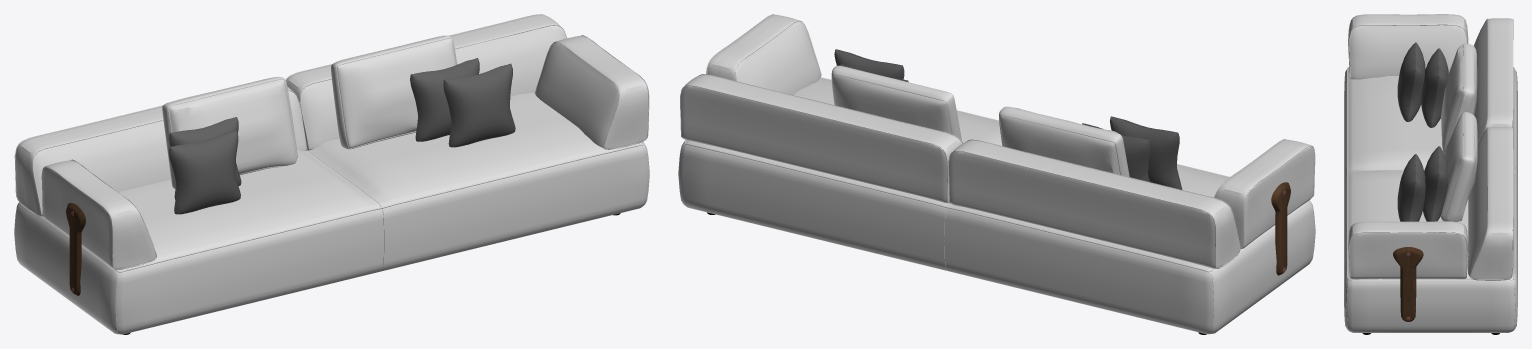
File: SBH_ABENA.glb
The picture shows the model from 3 angles, left to right: view 1: azimuth 30°, elevation 25°; view 2: azimuth 150°, elevation 25°; view 3: azimuth 270°, elevation 25°; orthographic projection. The views are drawn at different scales.
Visible parts, largest first — view 1: ABENA; view 2: ABENA; view 3: ABENA.
Boxes of the visible parts, x1=… form: ABENA: x1=14, y1=14, x2=649, y2=334; ABENA: x1=678, y1=14, x2=1315, y2=334; ABENA: x1=1344, y1=14, x2=1517, y2=334.
Size of the model in its own units: 3.15 by 0.8804 by 1.04.
Materials: 5 (1 with a texture image).
